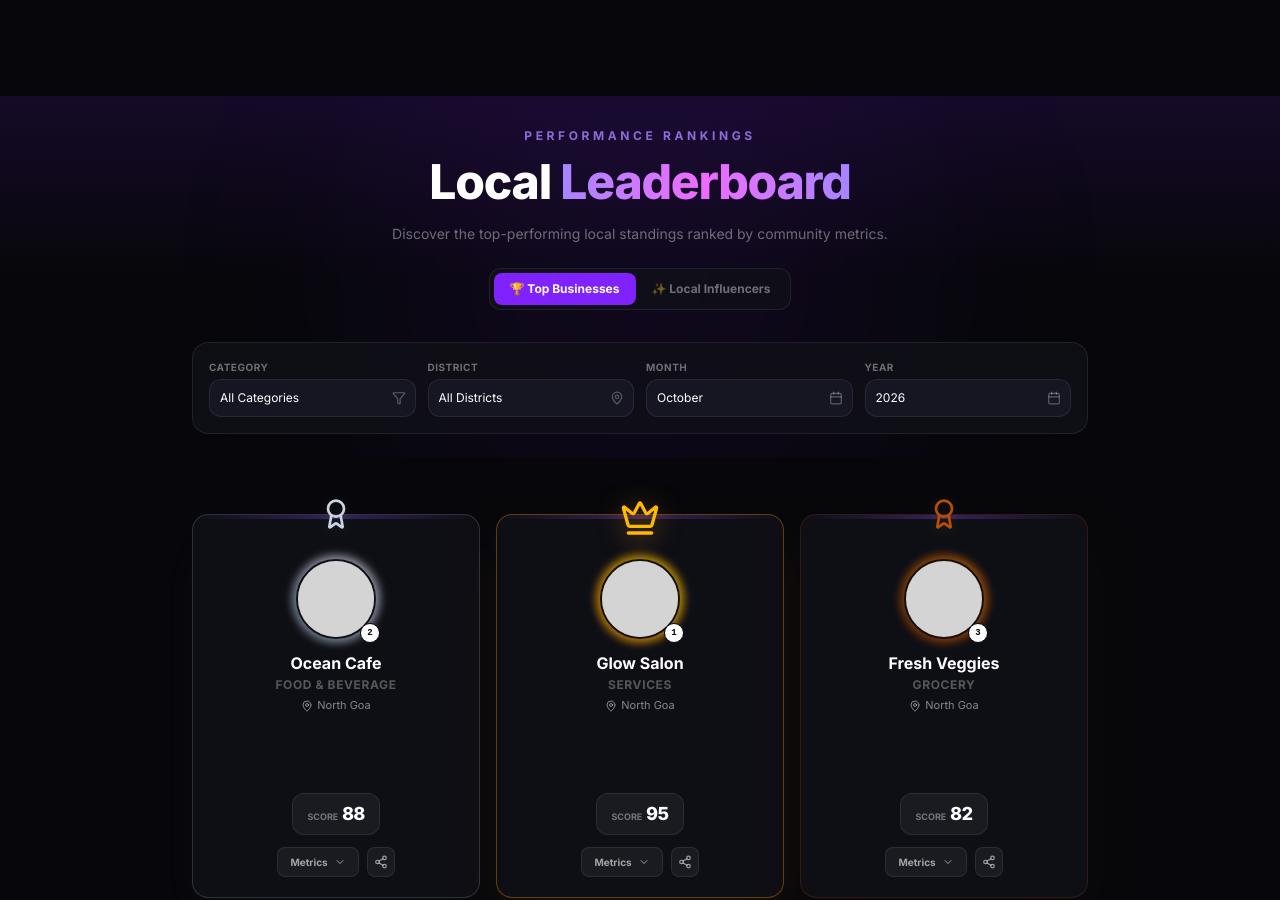
it: Leaderboard Page › switches tabs to local influencers
The width and height of the screenshot is (1280, 900).
Expected: the heading "Glow Salon" is shown, [592, 651, 688, 675]
Click the button "✨ Local Influencers" at (711, 289), box [636, 273, 786, 305]
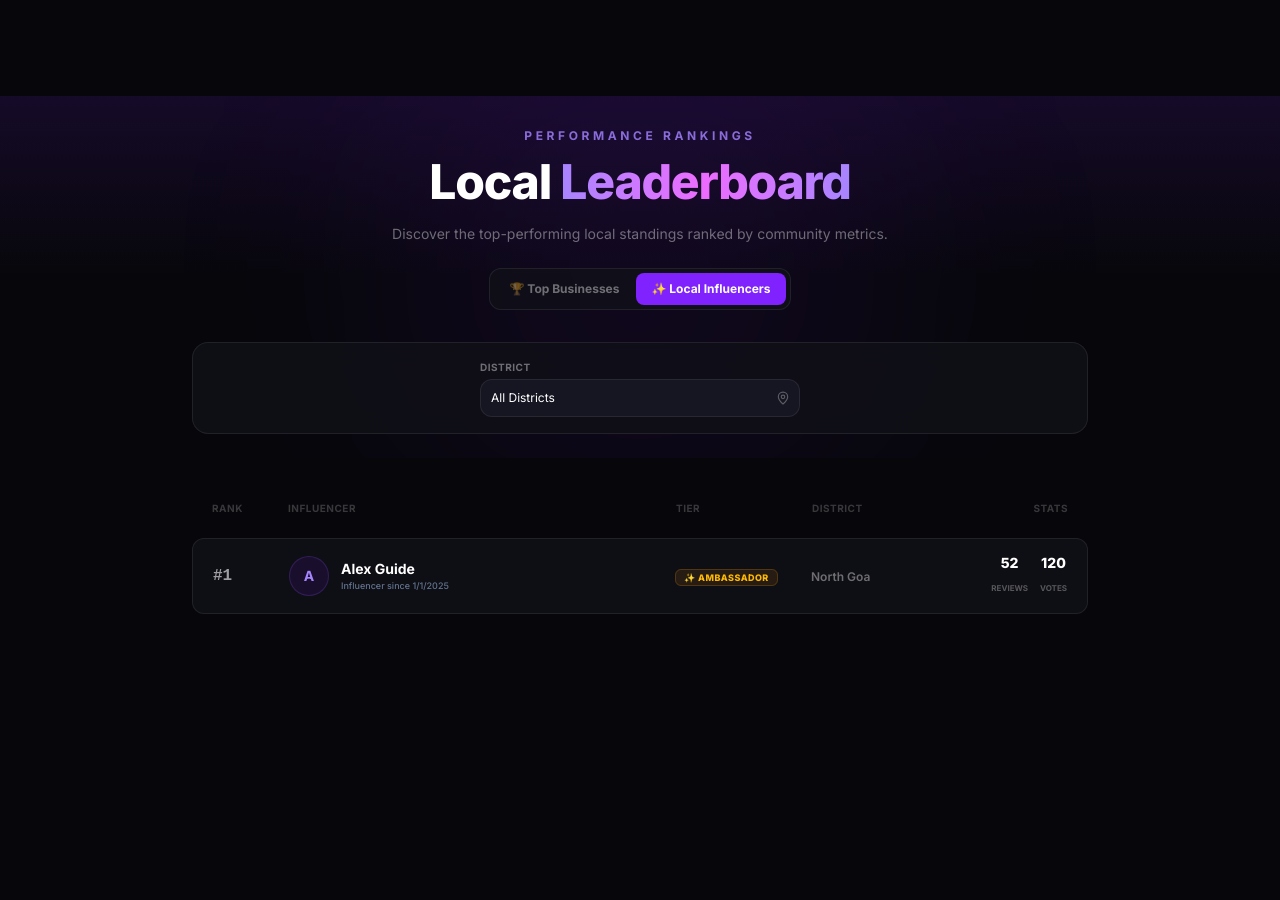
Now the heading "Alex Guide" is shown, box [341, 560, 415, 577]
Now the text "✨ ambassador" is shown, box [675, 569, 778, 586]
Now the text "52" is shown, box [1001, 554, 1019, 571]
